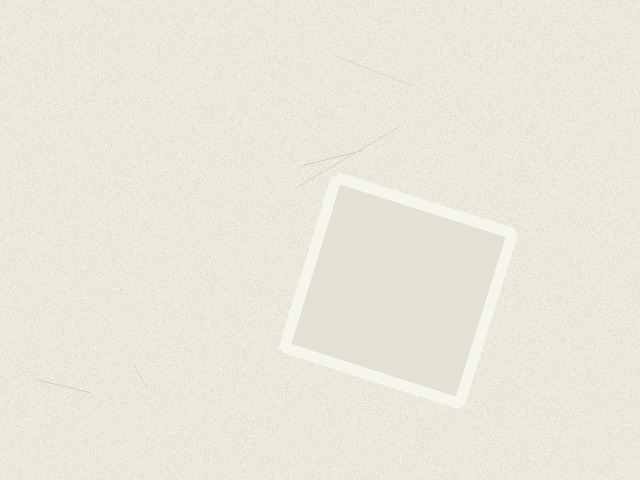parking_area: (284, 177, 512, 403)
